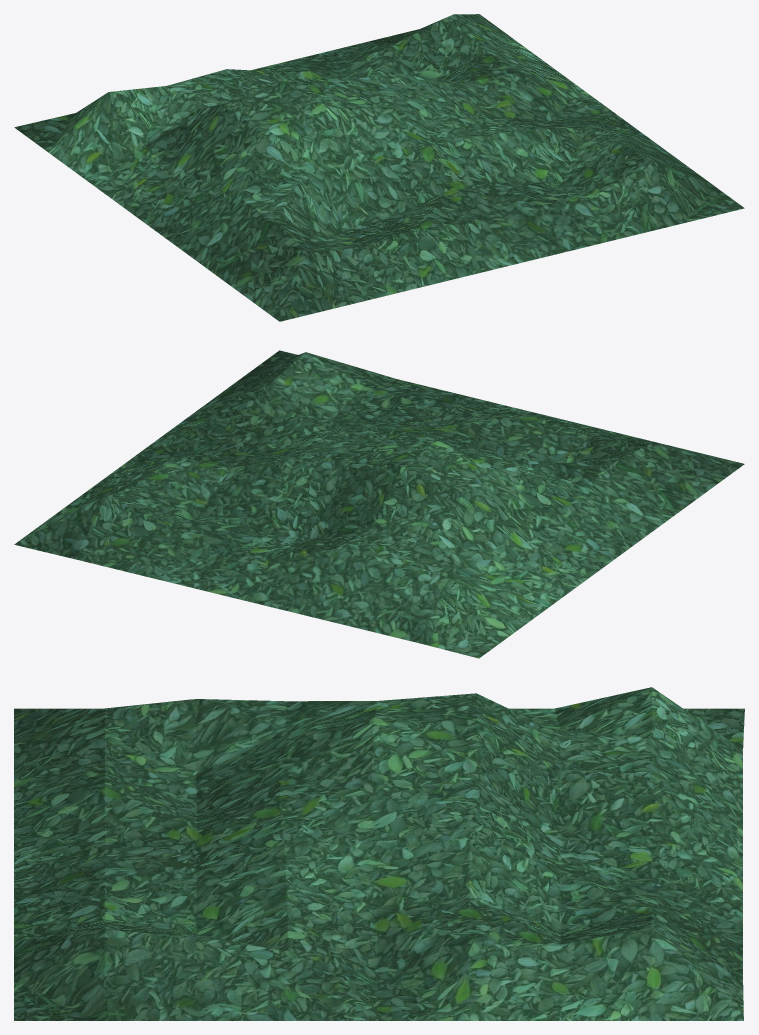
File: foodtruck.glb
The picture shows the model from 3 angles, top to bottom: view 1: azimuth 30°, elevation 25°; view 2: azimuth 150°, elevation 25°; view 3: azimuth 270°, elevation 25°; orthographic projection. The views are drawn at different scales.
Visible parts, largest first — view 1: Plane.001; view 2: Plane.001; view 3: Plane.001.
Part boxes in pixels (x1,y1,x2,y2): Plane.001: (14,14,744,321); Plane.001: (14,350,744,658); Plane.001: (14,687,744,1020).
Bounding box in the file's own units: 16.52 × 2.61 × 16.34.
Materials: 1 (1 with a texture image).
